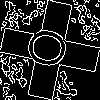O: (25, 25, 78, 73)
